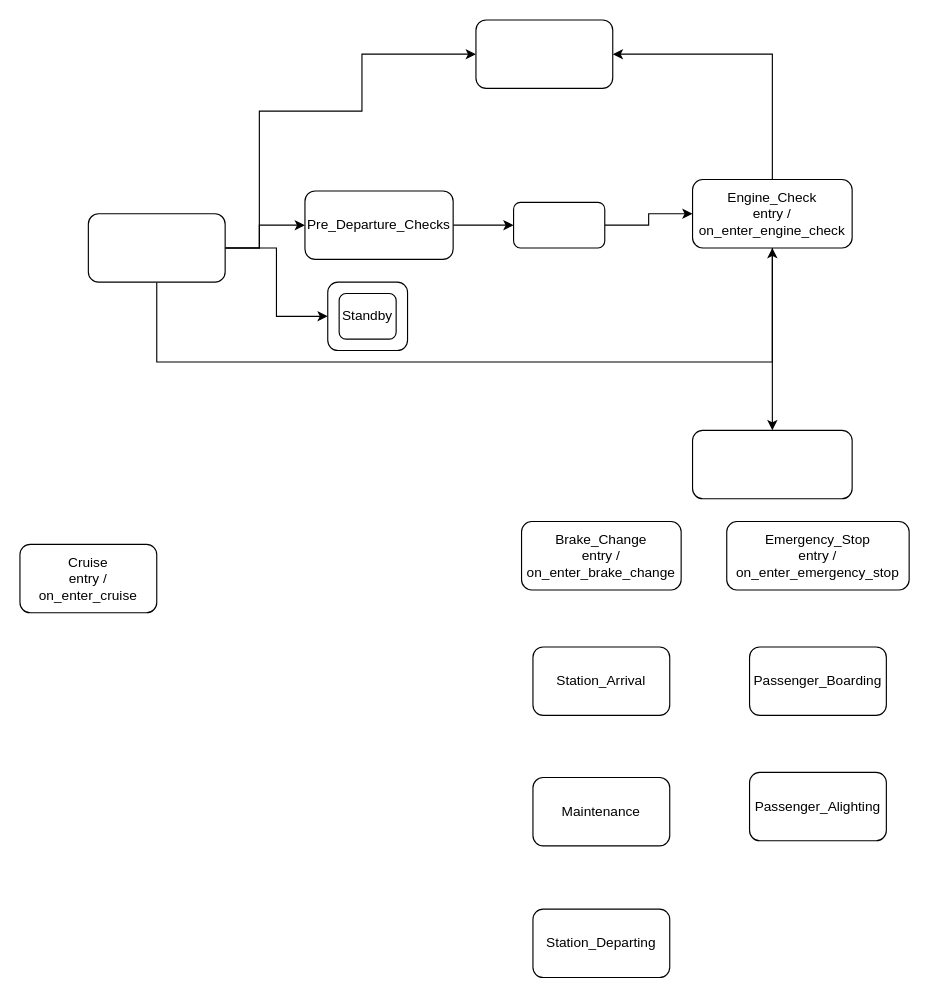
Some shapes in this 929 by 998 pixel diagram are drawn without their labels. The box of each missing label's shape, as (x1, y1, x2, y2) in pixels:
AWS entry / on_enter_AWS: (475, 19, 613, 88)
Departure: (512, 201, 605, 248)
Idle Entry / on_enter_idle: (87, 213, 225, 282)
Speed_Change entry / on_enter_speed_change: (691, 429, 852, 499)
